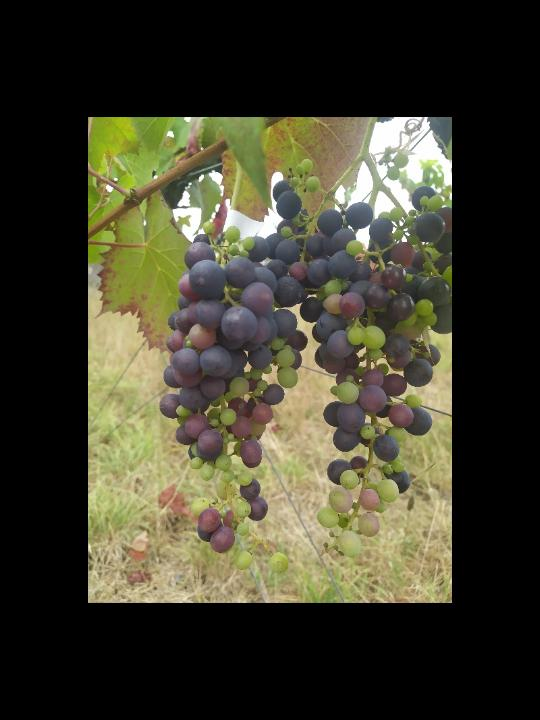grape: (273, 152, 451, 561), (157, 222, 310, 577)
